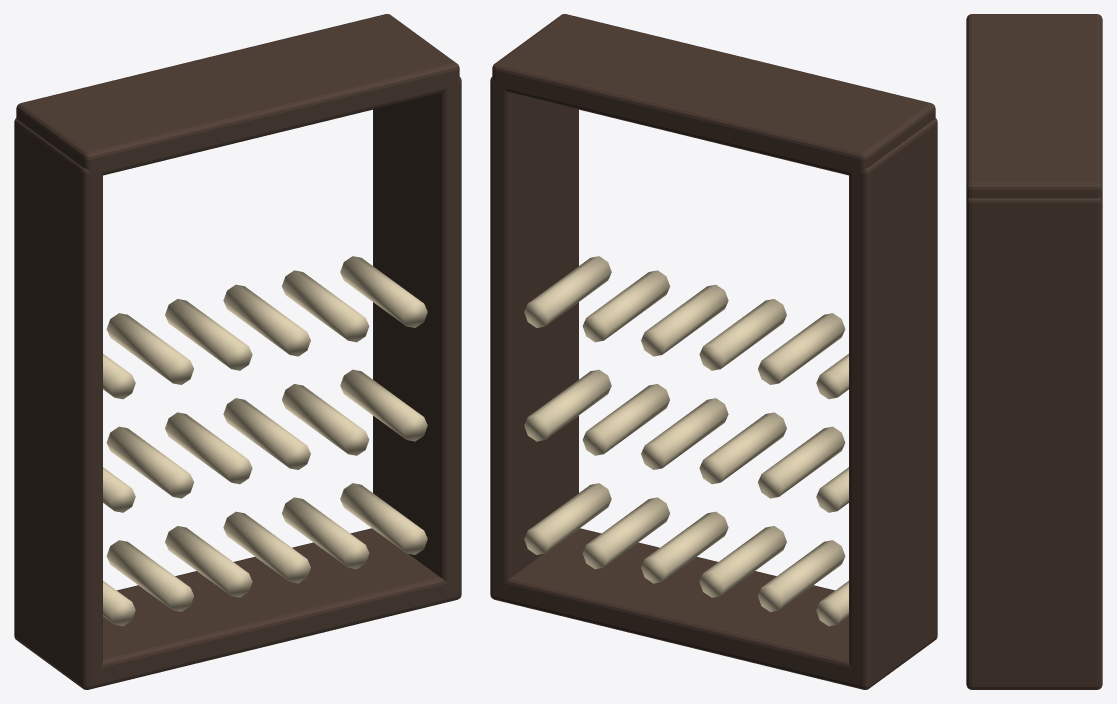
The model's file is study_furniture_scroll_rack_a.glb.
3 renders of one model, left to right at view 1: azimuth 30°, elevation 25°; view 2: azimuth 150°, elevation 25°; view 3: azimuth 270°, elevation 25°, orthographic. The views are drawn at different scales.
Parts seen in each view (by area): view 1: GD_study_furniture_scroll_rack_a__m0, GD_study_furniture_scroll_rack_a__m1; view 2: GD_study_furniture_scroll_rack_a__m0, GD_study_furniture_scroll_rack_a__m1; view 3: GD_study_furniture_scroll_rack_a__m0.
Part boxes in pixels (x1,y1,x2,y2): GD_study_furniture_scroll_rack_a__m0: (14, 14, 461, 689); GD_study_furniture_scroll_rack_a__m1: (103, 256, 427, 626); GD_study_furniture_scroll_rack_a__m0: (490, 14, 937, 689); GD_study_furniture_scroll_rack_a__m1: (524, 256, 848, 626); GD_study_furniture_scroll_rack_a__m0: (966, 14, 1102, 689).
Size of the model in its own units: 0.91 by 1.23 by 0.3.
